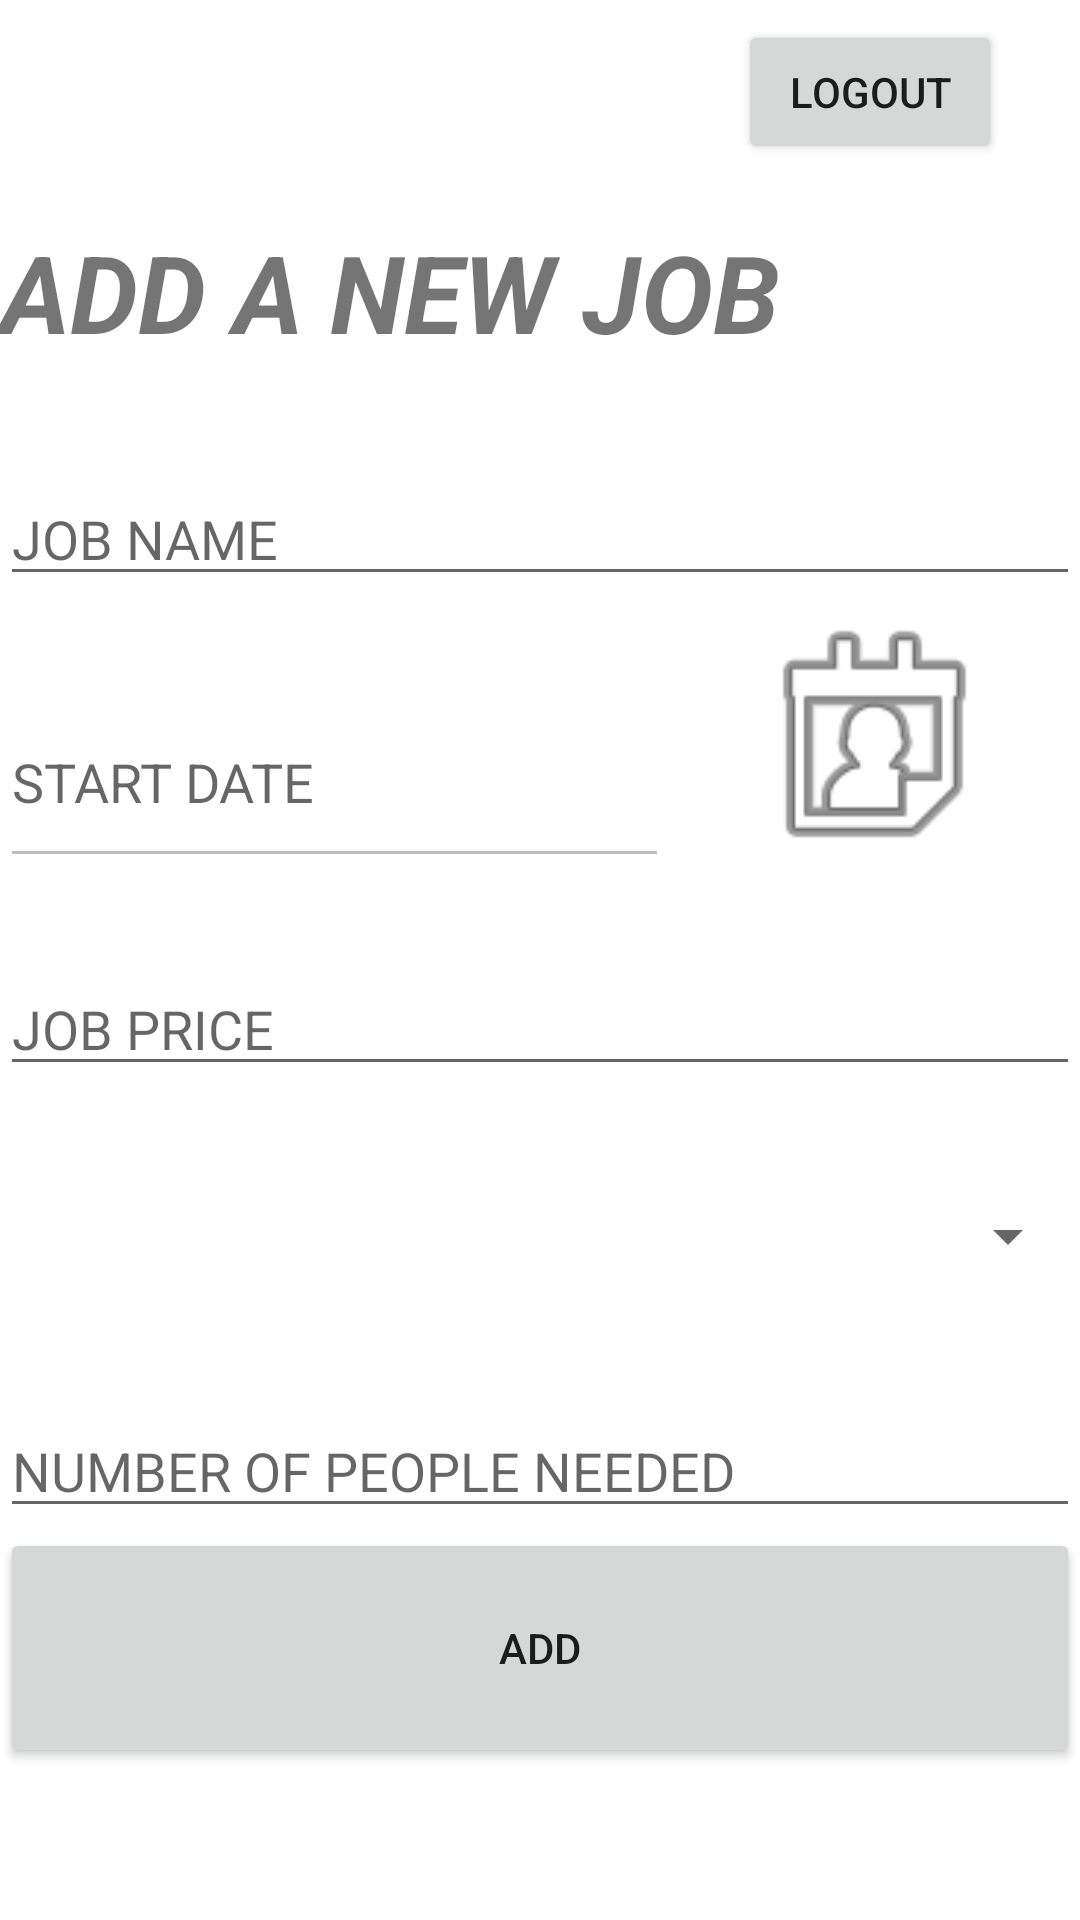

Icons on this 1080x1920 Android screen, each with the point to tap as [x,y]:
calendar: [874,734]
